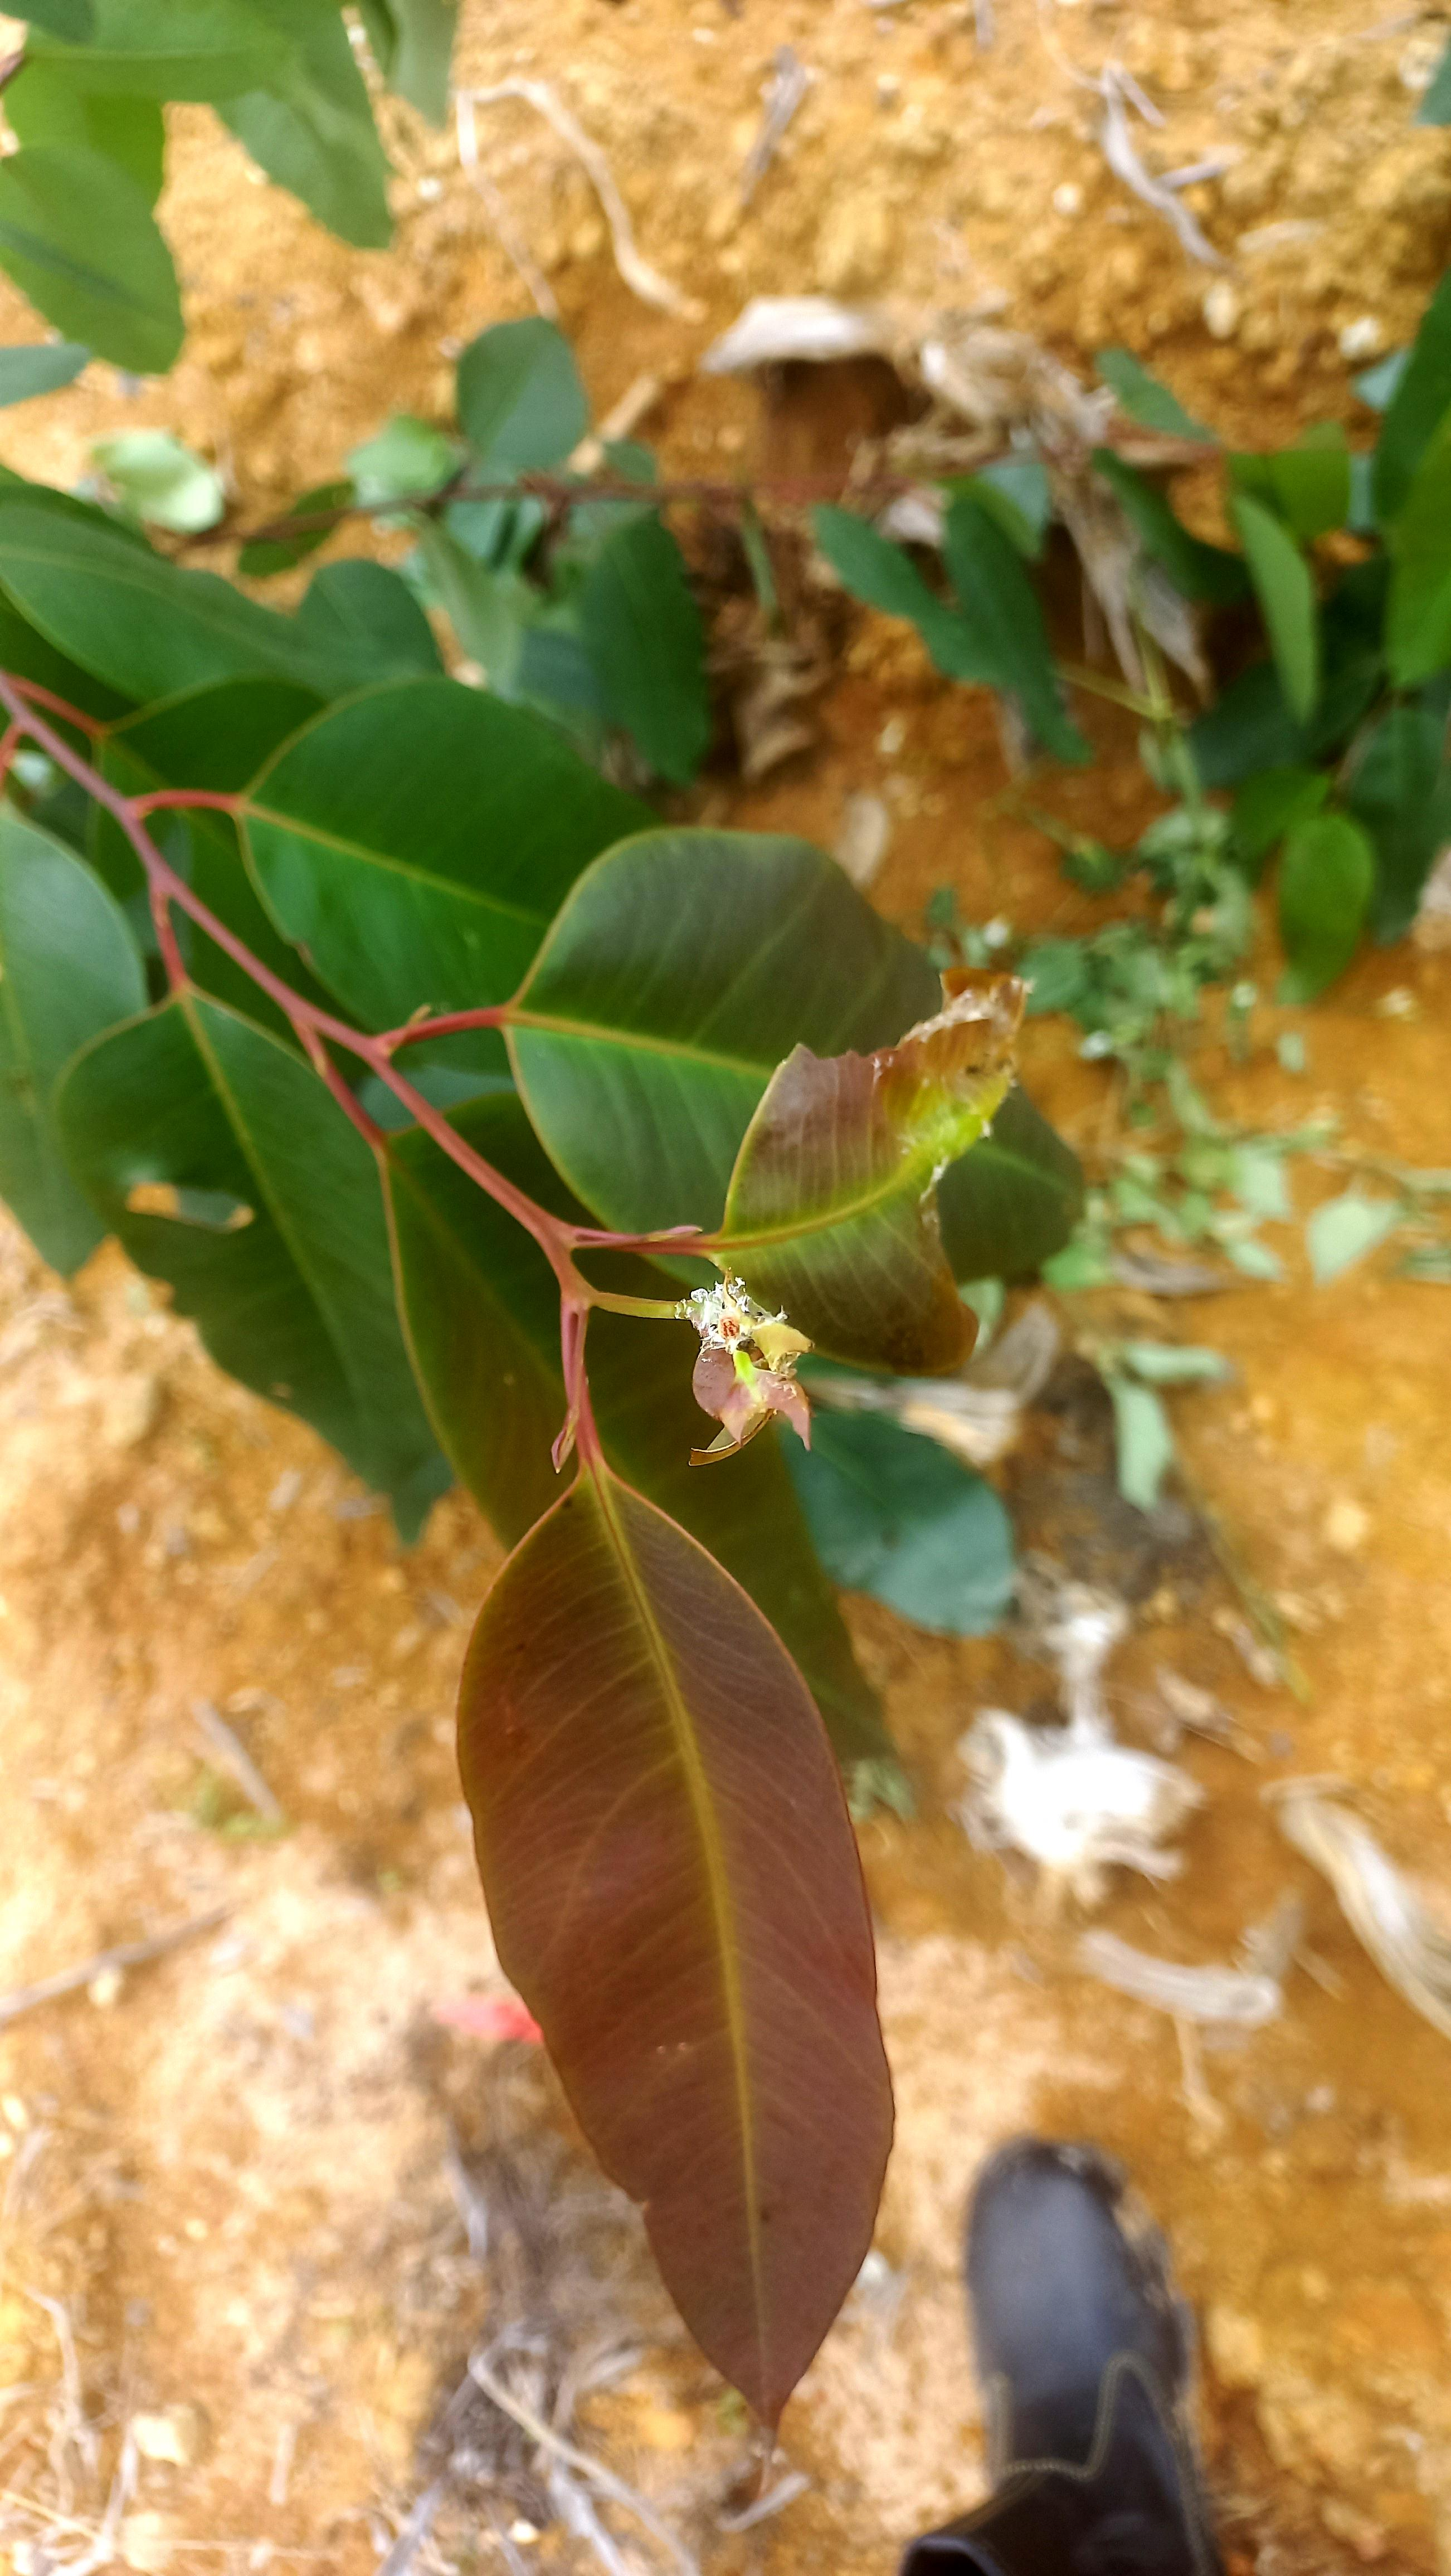Leaf Roller - Leaf: (736, 964, 1042, 1247), (685, 1286, 818, 1468)
